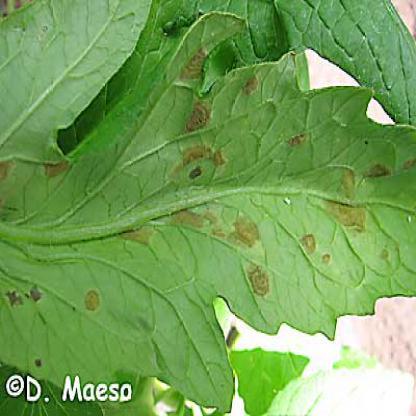tomato mold leaf: (18, 50, 412, 395)
